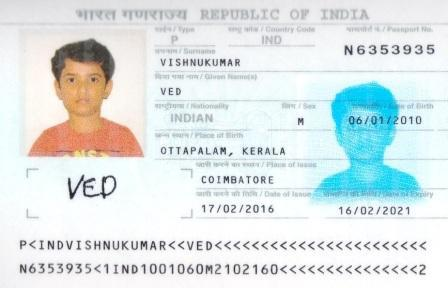DOB: (337, 112, 428, 126)
Surname: (157, 56, 245, 69)
country_code: (259, 34, 287, 50)
date_of_expiry: (325, 200, 419, 220)
date_of_issue: (192, 201, 289, 215)
details: (13, 240, 431, 287)
name: (153, 85, 232, 98)
nationality: (163, 110, 227, 126)
passport_no: (343, 44, 436, 61)
photo: (18, 34, 144, 160)
place_of_birth: (153, 145, 319, 158)
place_of_issue: (199, 173, 279, 187)
sex: (296, 117, 305, 128)
sign: (60, 164, 128, 212)
type: (166, 32, 184, 46)
